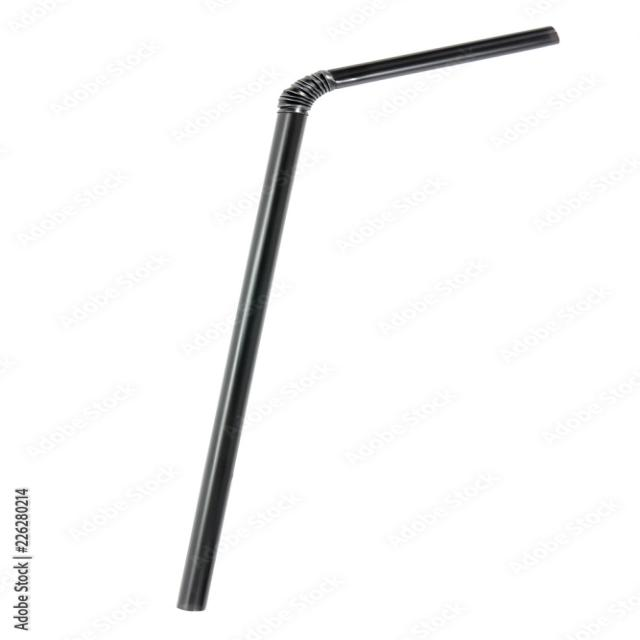plastic: (53, 16, 590, 635)
